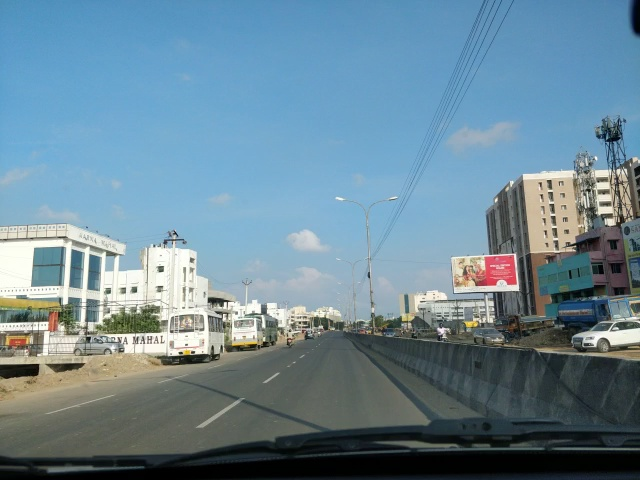bus: (166, 312, 228, 363), (245, 312, 280, 348), (232, 318, 264, 350)
car: (569, 316, 639, 353), (73, 334, 127, 355), (475, 327, 507, 345), (381, 327, 398, 340), (306, 330, 316, 340), (359, 329, 366, 334)
motorbike: (434, 324, 452, 346), (285, 329, 297, 350), (317, 330, 322, 338)
truck: (554, 295, 632, 332), (499, 318, 557, 336)
